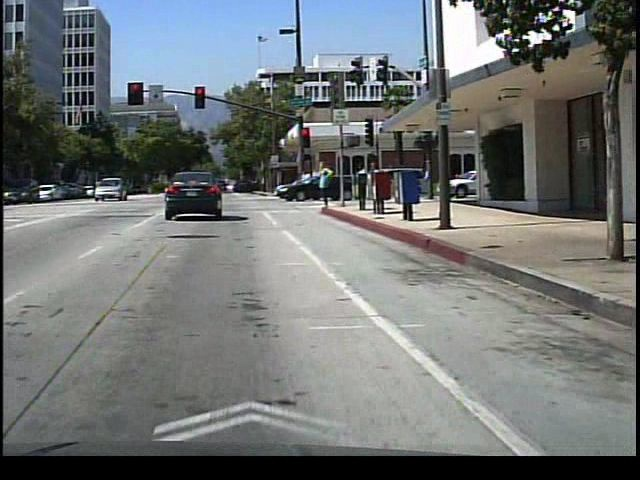person: (314, 153, 339, 213), (367, 155, 386, 204), (356, 158, 374, 202)
